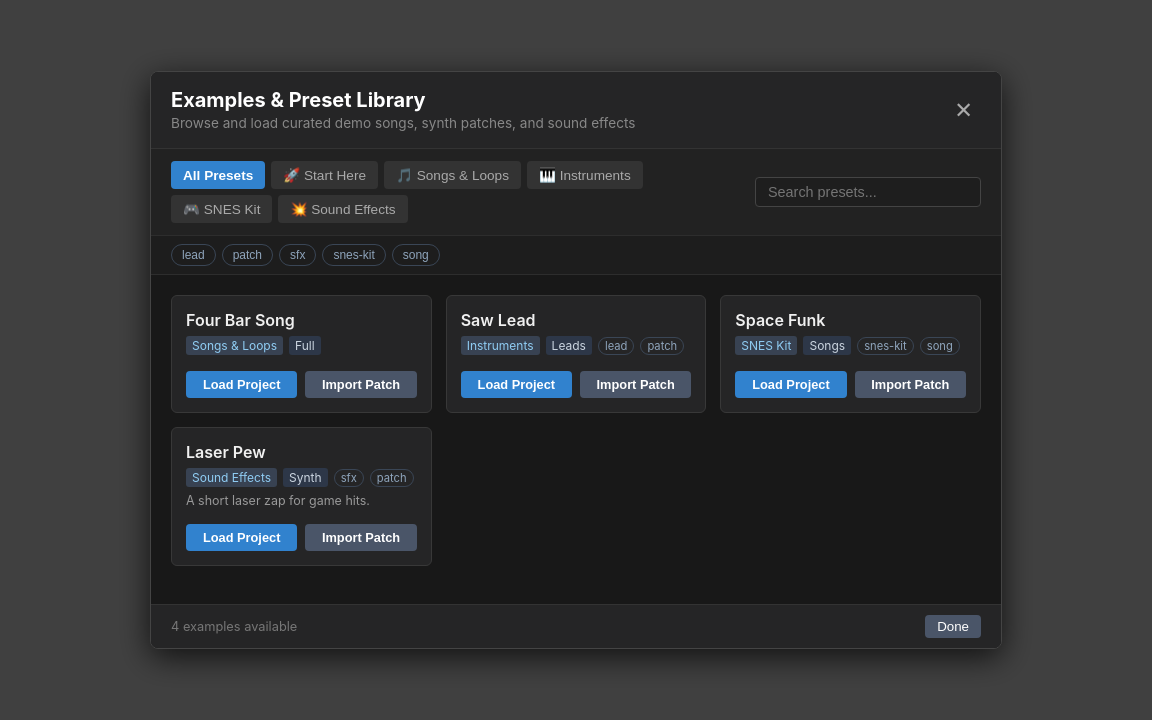
Scenario: ExamplesModal › narrows further when two tag chips are both selected (item must carry every selected tag)
The width and height of the screenshot is (1152, 720).
expect the text "Four Bar Song" is shown: met, box [186, 310, 295, 330]
Click the button with test id "tag-chip-patch" at (247, 255), box [222, 244, 273, 266]
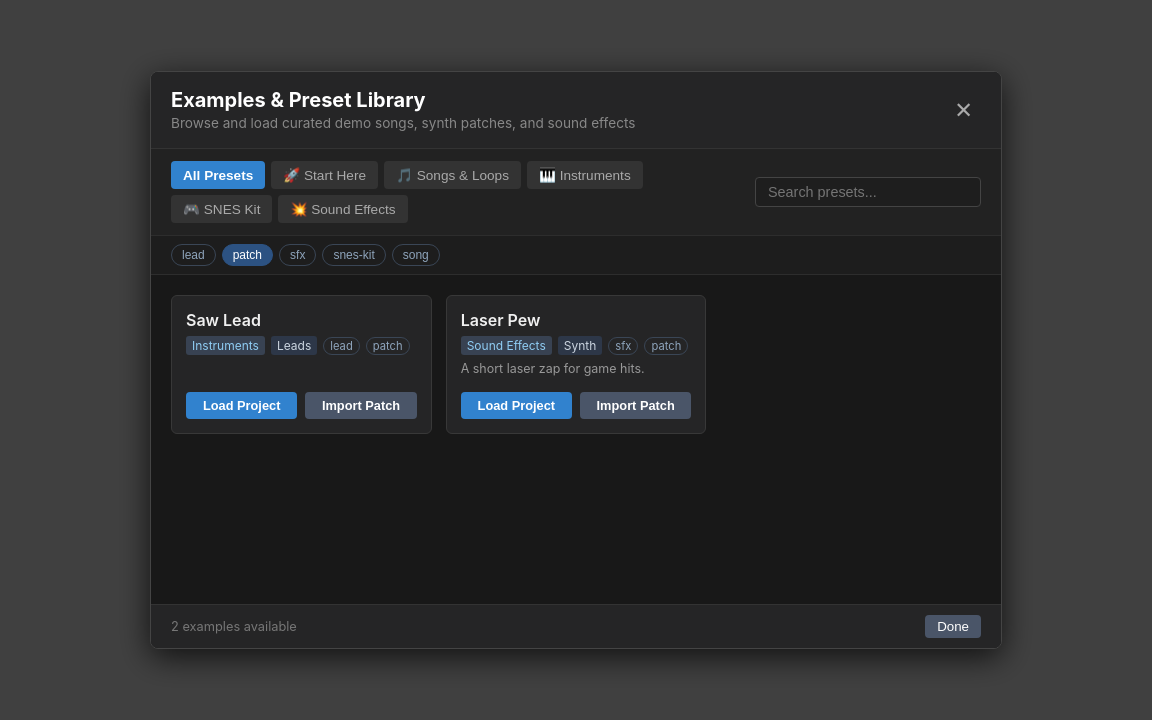
expect the text "Saw Lead" is shown: met, box [186, 310, 261, 330]
expect the text "Laser Pew" is shown: met, box [461, 310, 540, 330]
Click the button with test id "tag-chip-sfx" at (298, 255), box [279, 244, 316, 266]
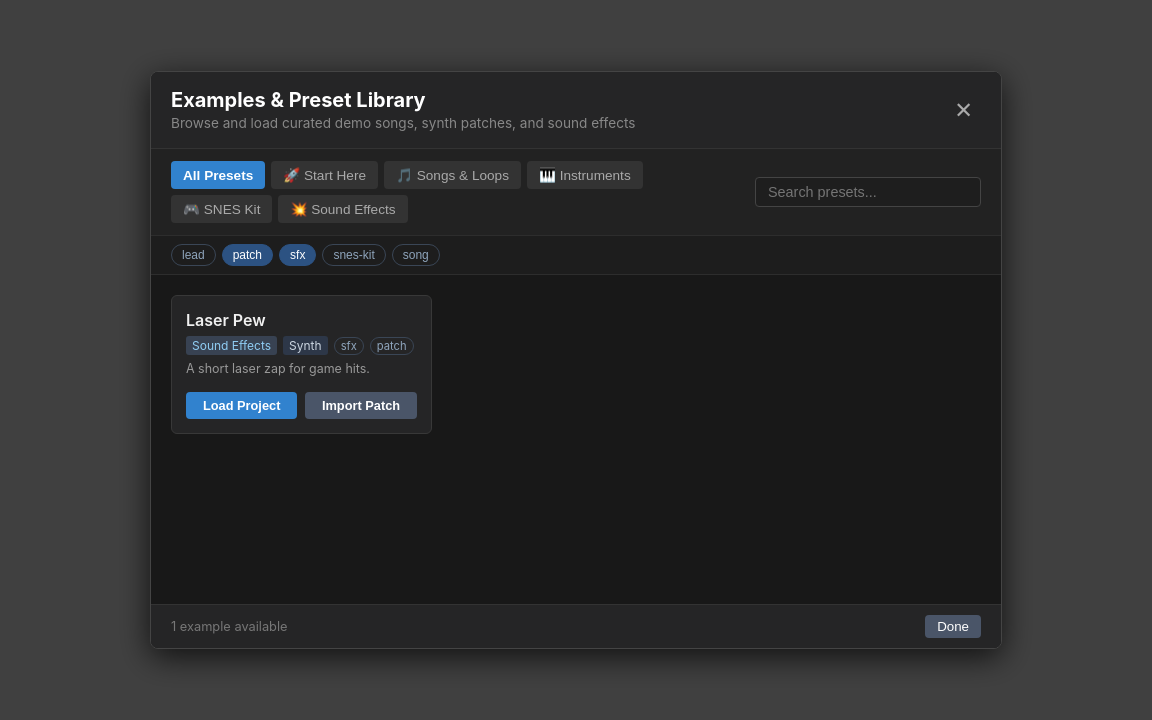
expect the text "Laser Pew" is shown: met, box [186, 310, 266, 330]
expect the text "Saw Lead" is gone: met
